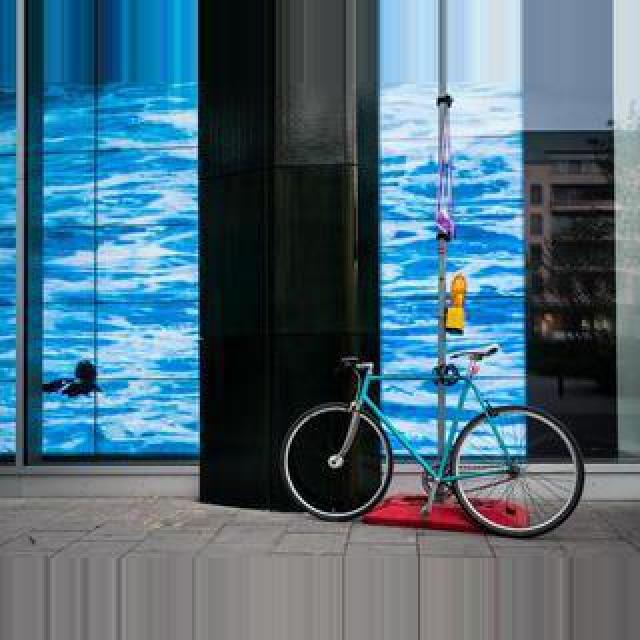Person: (282, 342, 582, 536)
